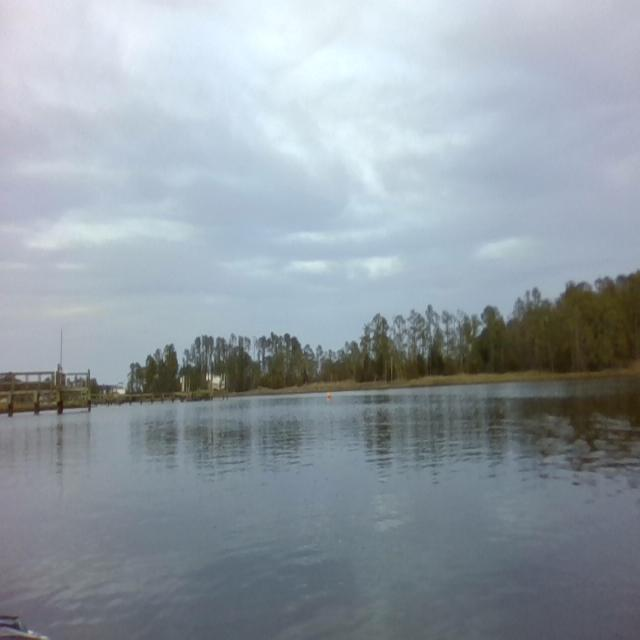Buoy: (326, 389, 333, 399)
